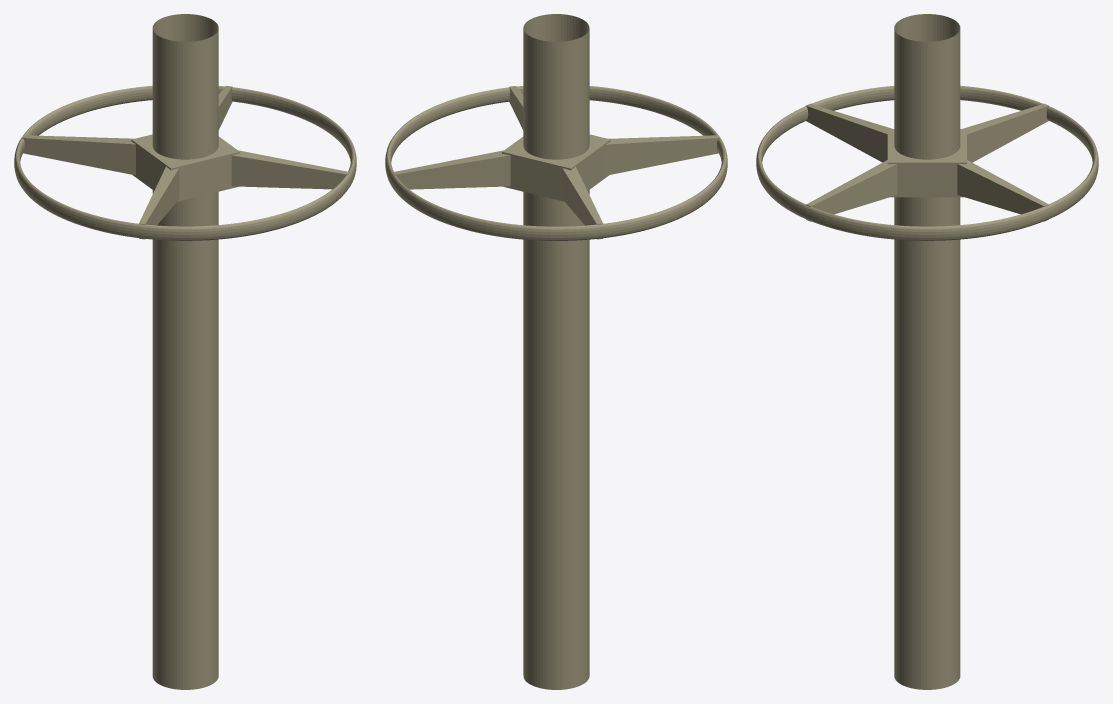
File: PilarCamera.obj
The picture shows the model from 3 angles, left to right: view 1: azimuth 30°, elevation 25°; view 2: azimuth 150°, elevation 25°; view 3: azimuth 270°, elevation 25°; orthographic projection.
Visible parts, largest first — view 1: Mesh.057_Mesh.080_Mesh.087_Mes, Mesh.005_Mesh.003_Mesh.105_Mes, Mesh.002_Mesh.004_Mesh.104_Mes, Mesh.001_Mesh_Mesh.021_Mesh.95, Mesh.004_Mesh.002_Mesh.004_Mes, Mesh.003_Mesh.001_Mesh.015_Mes; view 2: Mesh.057_Mesh.080_Mesh.087_Mes, Mesh.005_Mesh.003_Mesh.105_Mes, Mesh.002_Mesh.004_Mesh.104_Mes, Mesh.003_Mesh.001_Mesh.015_Mes, Mesh_Mesh.005_Mesh.031_Mes, Mesh.004_Mesh.002_Mesh.004_Mes; view 3: Mesh.057_Mesh.080_Mesh.087_Mes, Mesh.005_Mesh.003_Mesh.105_Mes, Mesh.002_Mesh.004_Mesh.104_Mes, Mesh.001_Mesh_Mesh.021_Mesh.95, Mesh_Mesh.005_Mesh.031_Mes, Mesh.003_Mesh.001_Mesh.015_Mes, Mesh.004_Mesh.002_Mesh.004_Mes.
Boxes of the visible parts, x1=… form: Mesh.057_Mesh.080_Mesh.087_Mes: x1=152, y1=14, x2=218, y2=689; Mesh.005_Mesh.003_Mesh.105_Mes: x1=14, y1=85, x2=356, y2=240; Mesh.002_Mesh.004_Mesh.104_Mes: x1=131, y1=134, x2=239, y2=201; Mesh.001_Mesh_Mesh.021_Mesh.95: x1=231, y1=150, x2=349, y2=189; Mesh.004_Mesh.002_Mesh.004_Mes: x1=21, y1=135, x2=135, y2=175; Mesh.003_Mesh.001_Mesh.015_Mes: x1=139, y1=166, x2=179, y2=239; Mesh.057_Mesh.080_Mesh.087_Mes: x1=523, y1=14, x2=589, y2=689; Mesh.005_Mesh.003_Mesh.105_Mes: x1=385, y1=86, x2=727, y2=240; Mesh.002_Mesh.004_Mesh.104_Mes: x1=502, y1=134, x2=610, y2=201; Mesh.003_Mesh.001_Mesh.015_Mes: x1=605, y1=135, x2=720, y2=175; Mesh_Mesh.005_Mesh.031_Mes: x1=392, y1=150, x2=510, y2=189; Mesh.004_Mesh.002_Mesh.004_Mes: x1=562, y1=166, x2=603, y2=239; Mesh.057_Mesh.080_Mesh.087_Mes: x1=894, y1=14, x2=960, y2=689; Mesh.005_Mesh.003_Mesh.105_Mes: x1=756, y1=85, x2=1098, y2=240; Mesh.002_Mesh.004_Mesh.104_Mes: x1=887, y1=129, x2=966, y2=197; Mesh.001_Mesh_Mesh.021_Mesh.95: x1=806, y1=160, x2=897, y2=221; Mesh_Mesh.005_Mesh.031_Mes: x1=957, y1=160, x2=1048, y2=221; Mesh.003_Mesh.001_Mesh.015_Mes: x1=806, y1=103, x2=892, y2=162; Mesh.004_Mesh.002_Mesh.004_Mes: x1=962, y1=103, x2=1048, y2=162.
Size of the model in its own units: 4.31 by 8.99 by 4.31.
